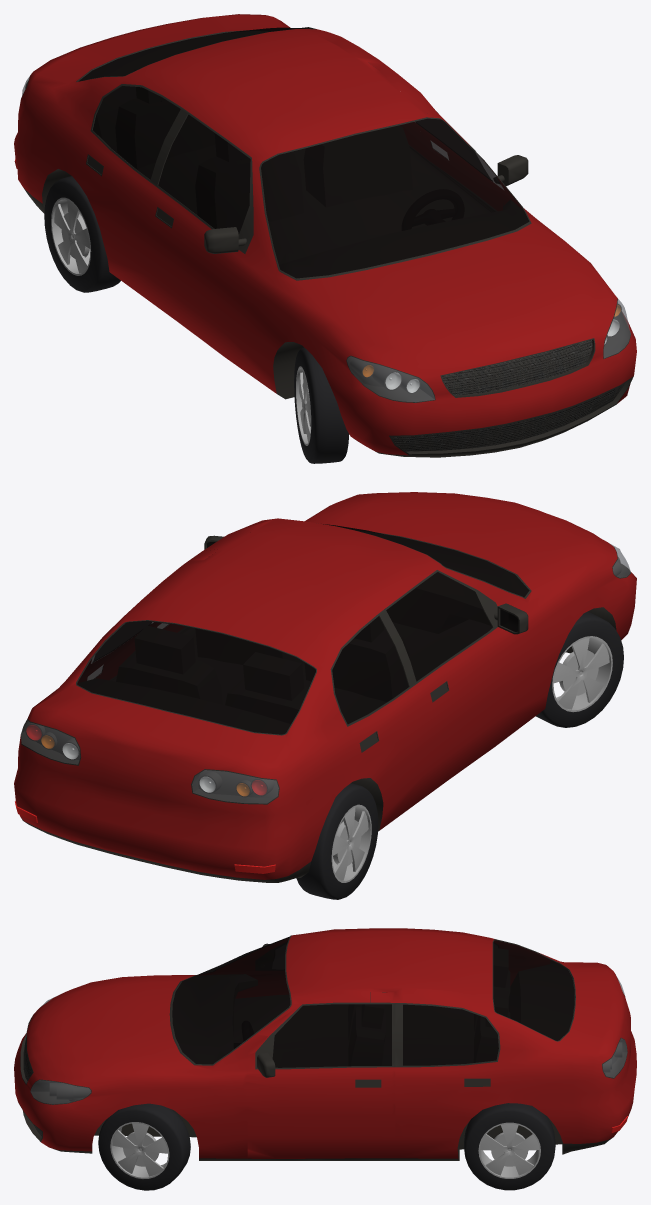
Rendered from sedan-2.glb.
The picture shows the model from 3 angles, top to bottom: view 1: azimuth 30°, elevation 25°; view 2: azimuth 150°, elevation 25°; view 3: azimuth 270°, elevation 25°; orthographic projection. The views are drawn at different scales.
Visible parts, largest first — view 1: body, door_driver_mesh, wheel_RR_mesh, wheel_FR_mesh; view 2: body, wheel_FR_mesh, wheel_RR_mesh, door_driver_mesh; view 3: body, door_driver_mesh, wheel_RL_mesh, wheel_FL_mesh.
Part boxes in pixels (<box>): body: <box>14,14,636,457</box>; door_driver_mesh: <box>367,61,528,220</box>; wheel_RR_mesh: <box>44,176,120,292</box>; wheel_FR_mesh: <box>294,347,349,463</box>; body: <box>14,492,636,882</box>; wheel_FR_mesh: <box>536,611,623,727</box>; wheel_RR_mesh: <box>296,783,378,899</box>; door_driver_mesh: <box>152,521,267,660</box>; body: <box>14,928,636,1160</box>; door_driver_mesh: <box>247,989,395,1159</box>; wheel_RL_mesh: <box>464,1103,555,1190</box>; wheel_FL_mesh: <box>98,1103,190,1190</box>.
Bounding box in the file's own units: 2.23 × 1.56 × 4.8.
5 materials, 5 textured.
